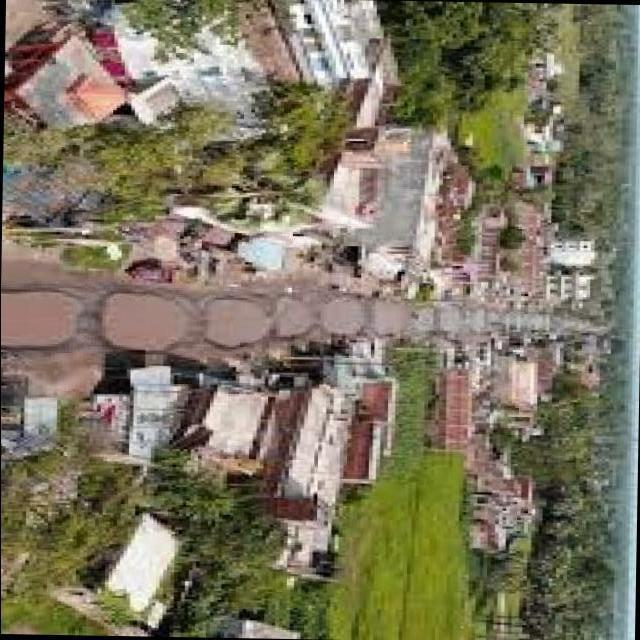pothole: (101, 292, 185, 351), (0, 290, 80, 349), (203, 298, 266, 345), (324, 300, 364, 332), (276, 304, 309, 335)
